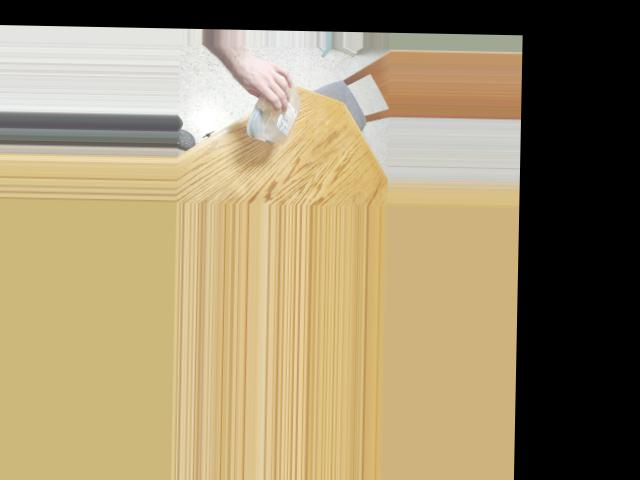cheese: (253, 84, 296, 137)
